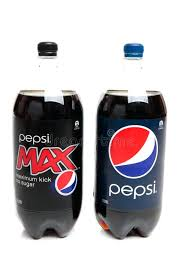bottle: (97, 42, 167, 239)
pepsi: (109, 124, 162, 179), (109, 185, 164, 202)
